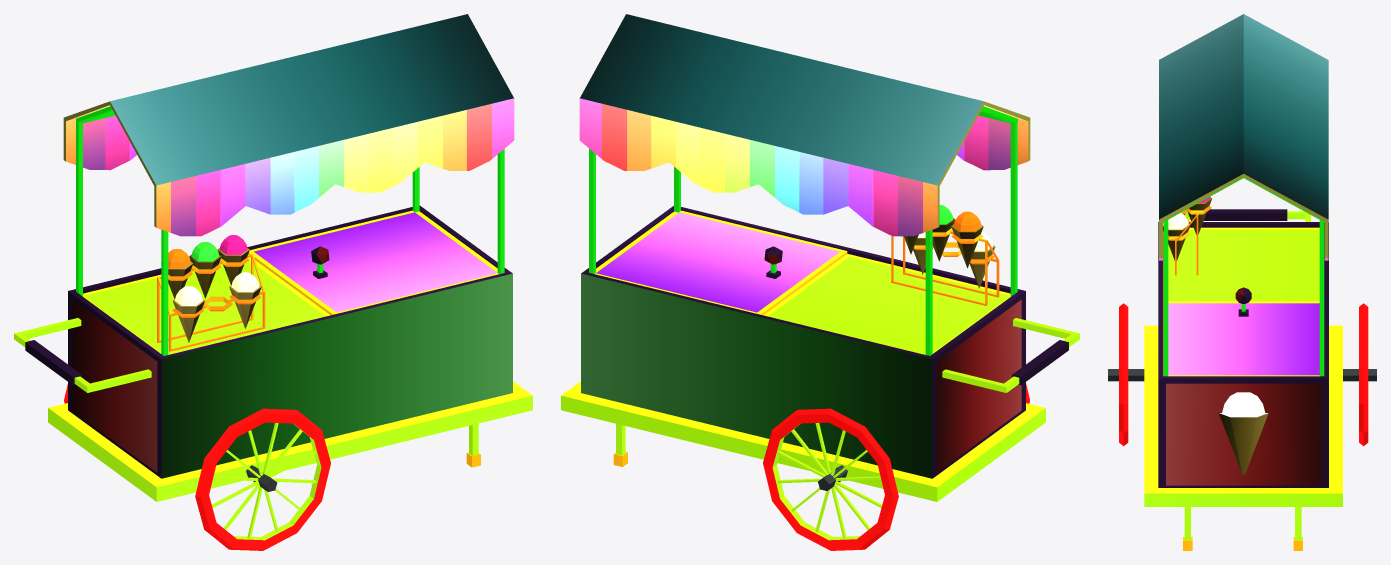
The model's file is grid1-smallfood2.glb.
The picture shows the model from 3 angles, left to right: view 1: azimuth 30°, elevation 25°; view 2: azimuth 150°, elevation 25°; view 3: azimuth 270°, elevation 25°; orthographic projection. The views are drawn at different scales.
Parts seen in each view (by area): view 1: IceCreamTruck_01; view 2: IceCreamTruck_01; view 3: IceCreamTruck_01.
Part boxes in pixels (<box>): IceCreamTruck_01: <box>14,14,532,550</box>; IceCreamTruck_01: <box>561,14,1079,550</box>; IceCreamTruck_01: <box>1108,14,1376,550</box>.
Bounding box in the file's own units: 0.7511 × 0.7065 × 0.445.
1 material, 1 textured.
